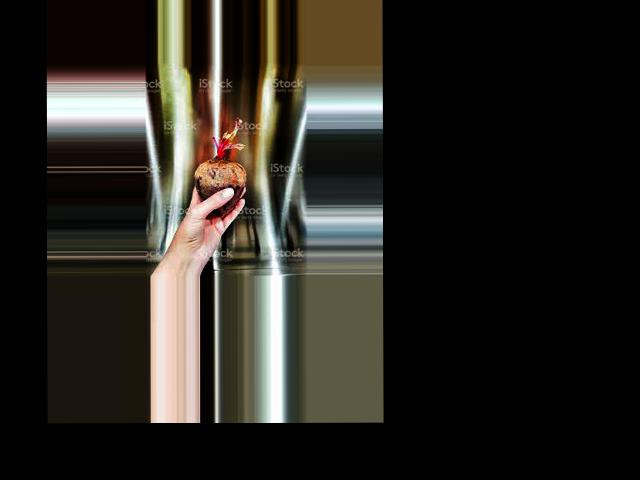beet: (194, 120, 246, 216)
